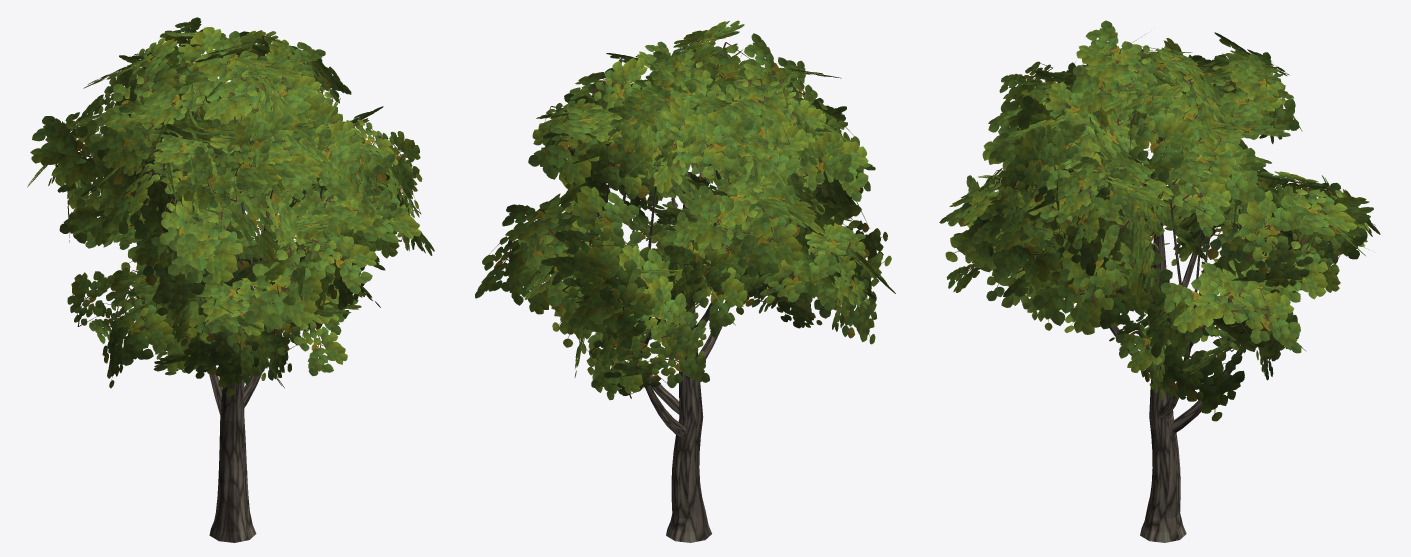
File: tr_lime.glb
3 renders of one model, left to right at view 1: azimuth 30°, elevation 25°; view 2: azimuth 150°, elevation 25°; view 3: azimuth 270°, elevation 25°, orthographic.
Parts seen in each view (by area): view 1: tr_lime; view 2: tr_lime; view 3: tr_lime.
Boxes of the visible parts, x1,y1,x2,y2 form: tr_lime: [27, 17, 434, 542]; tr_lime: [475, 20, 895, 542]; tr_lime: [939, 20, 1380, 542].
Bounding box in the file's own units: 7 × 9.52 × 8.01.
Materials: 2 (2 with a texture image).
